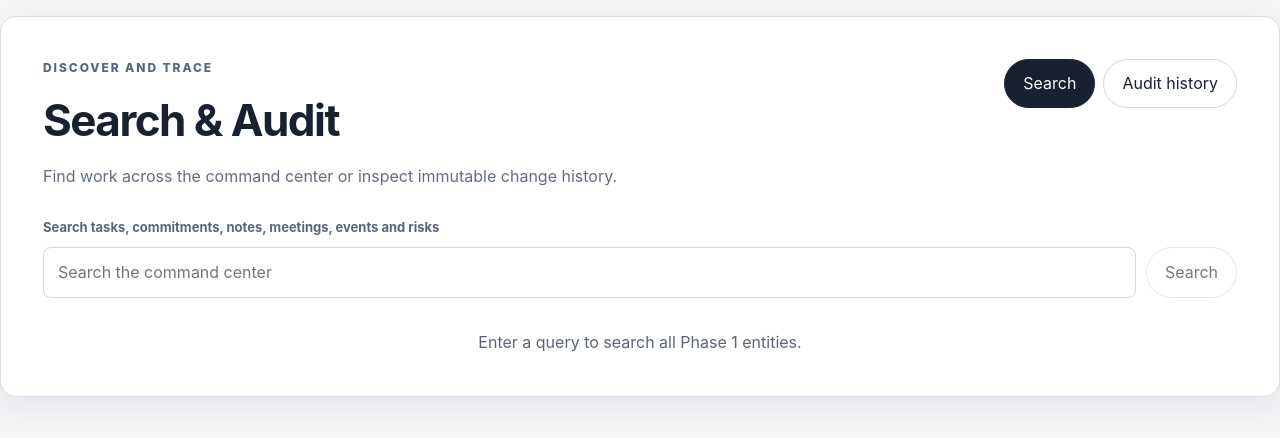
Test: SearchAuditPanel › classifies a network failure on the search tab as a readable message, not a raw TypeError
In the search field labelled "Search tasks, commitments, notes, meetings, events and risks": (589, 272) [43,247,1136,298], type "renewal"
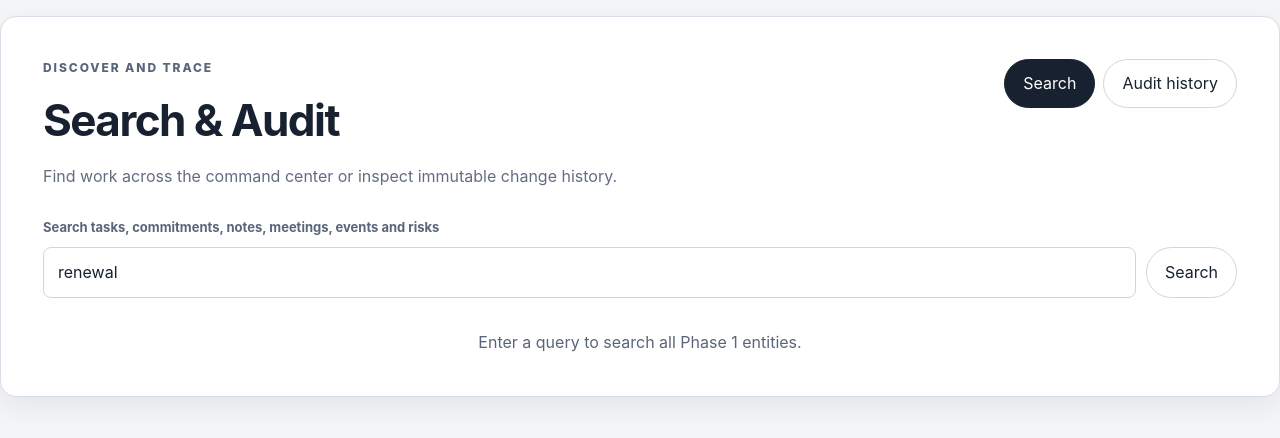
Click the button "Search": (1191, 272) [1146,247,1237,298]
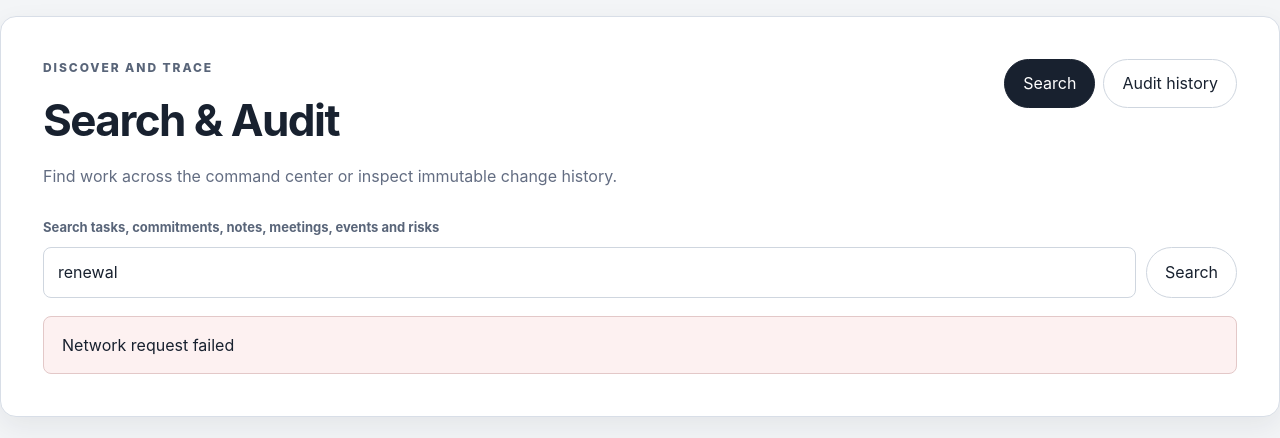
Now the message reads "Network request failed", box [62,334,234,354]
